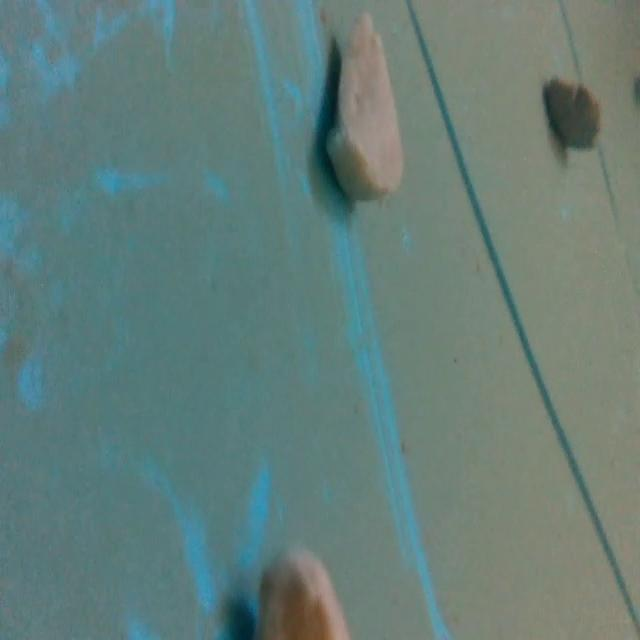rock: (317, 14, 415, 203), (251, 534, 342, 640), (534, 63, 607, 153)
